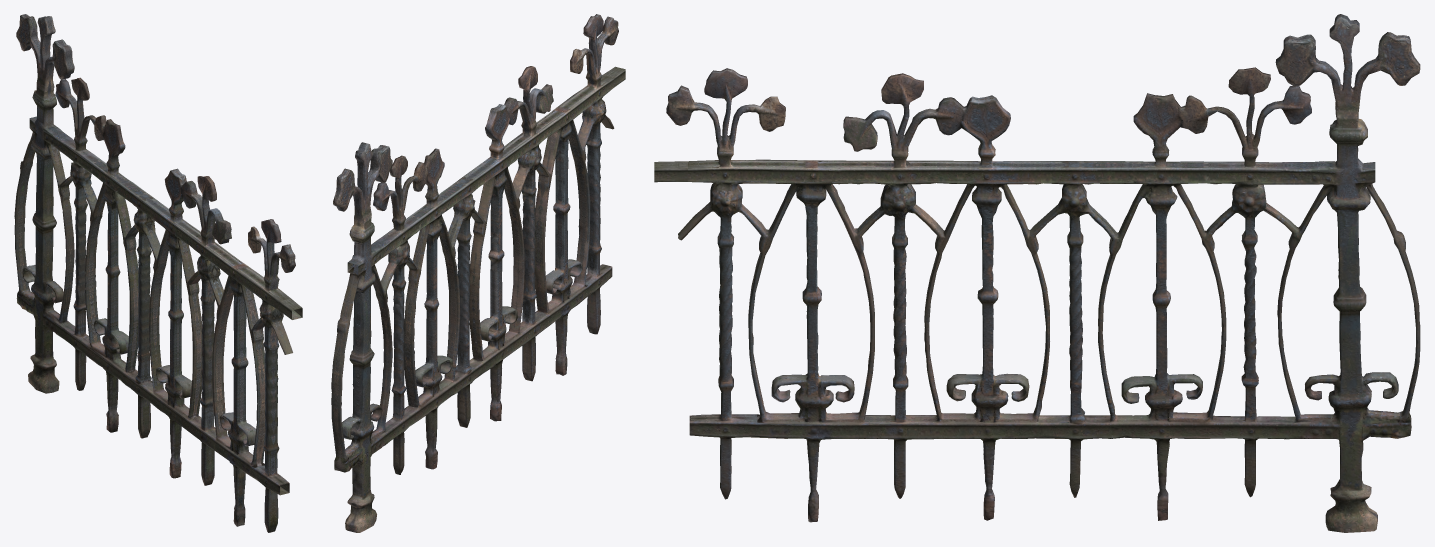
File: sm_OldFence_01_05.fbx
3 views of the same model, side by side, from view 1: azimuth 30°, elevation 25°; view 2: azimuth 150°, elevation 25°; view 3: azimuth 270°, elevation 25° (orthographic). The views are drawn at different scales.
Parts seen in each view (by area): view 1: sm_OldFence_01_05_LOD0; view 2: sm_OldFence_01_05_LOD0; view 3: sm_OldFence_01_05_LOD0.
Part boxes in pixels (x1,y1,x2,y2): sm_OldFence_01_05_LOD0: [14, 14, 302, 532]; sm_OldFence_01_05_LOD0: [331, 14, 625, 532]; sm_OldFence_01_05_LOD0: [654, 14, 1420, 532].
Size of the model in its own units: 7.36 by 170 by 125.
